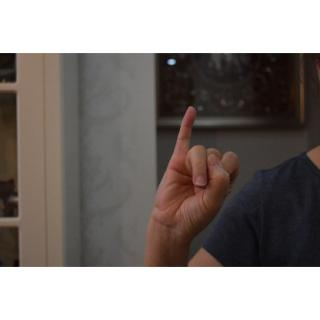MEEM: (149, 104, 246, 242)
